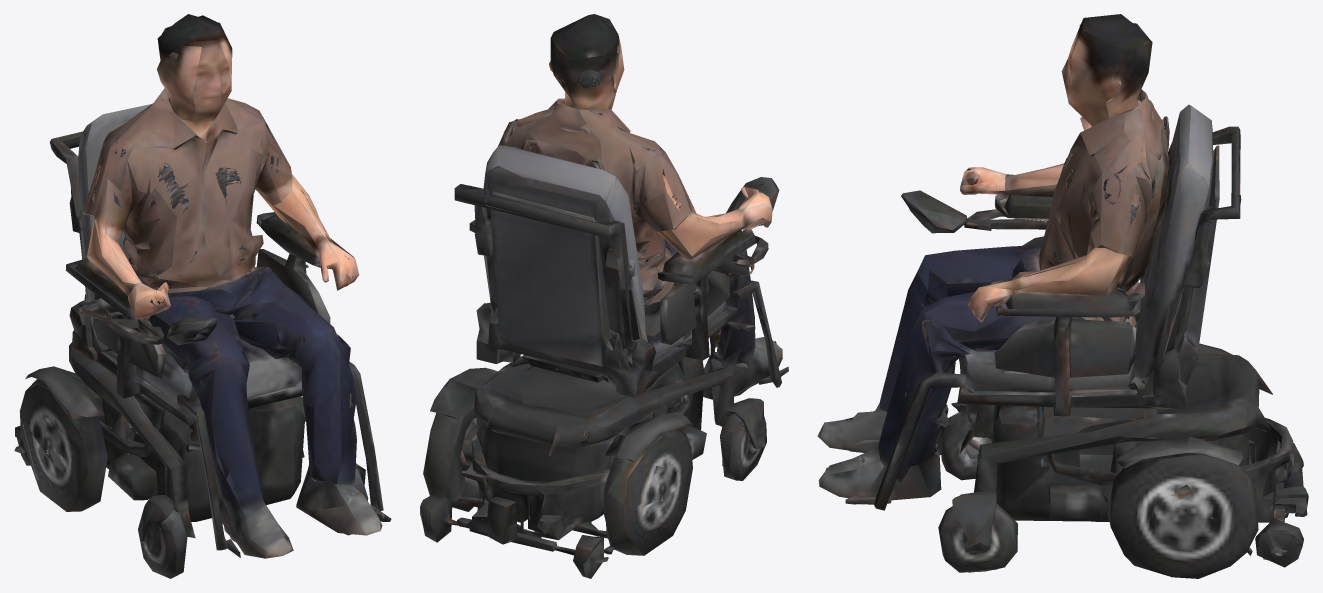
The model's file is person_13.glb.
The picture shows the model from 3 angles, left to right: view 1: azimuth 30°, elevation 25°; view 2: azimuth 150°, elevation 25°; view 3: azimuth 270°, elevation 25°; orthographic projection. The views are drawn at different scales.
Visible parts, largest first — view 1: Human_Rig; view 2: Human_Rig; view 3: Human_Rig.
Boxes of the visible parts, left/top/right/bottom form: Human_Rig: left=14, top=14, right=391, bottom=578; Human_Rig: left=420, top=14, right=788, bottom=578; Human_Rig: left=817, top=14, right=1308, bottom=578.
Size of the model in its own units: 0.6777 by 1.26 by 1.09.
Materials: 1 (1 with a texture image).
